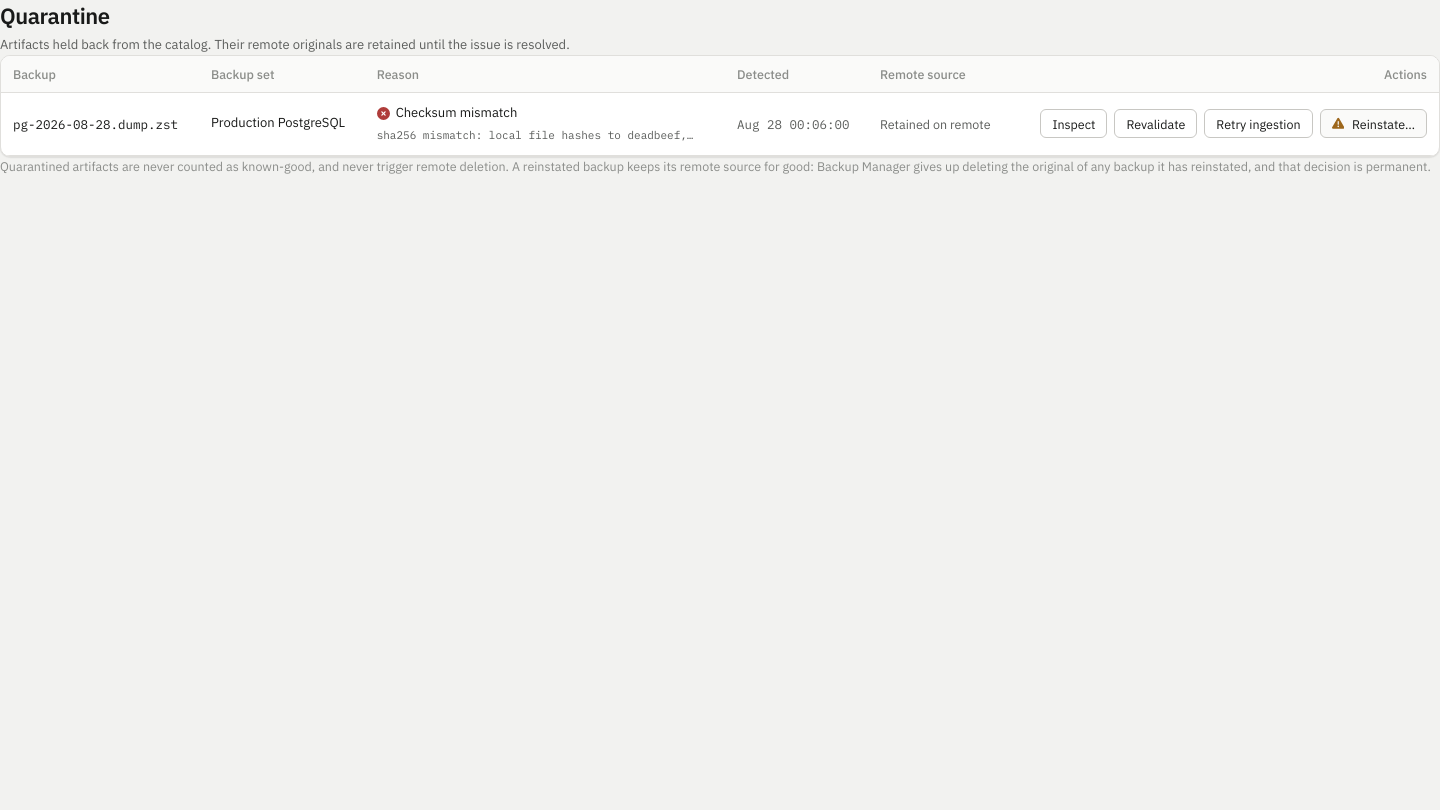
QuarantinePage: the confirmation discloses the permanent forfeiture › cancelling takes no action at all
What coordinates should you click on to do the following:
click the button "Reinstate…"
I would click on:
 (1373, 124)
Its box is [1320,109,1427,138].
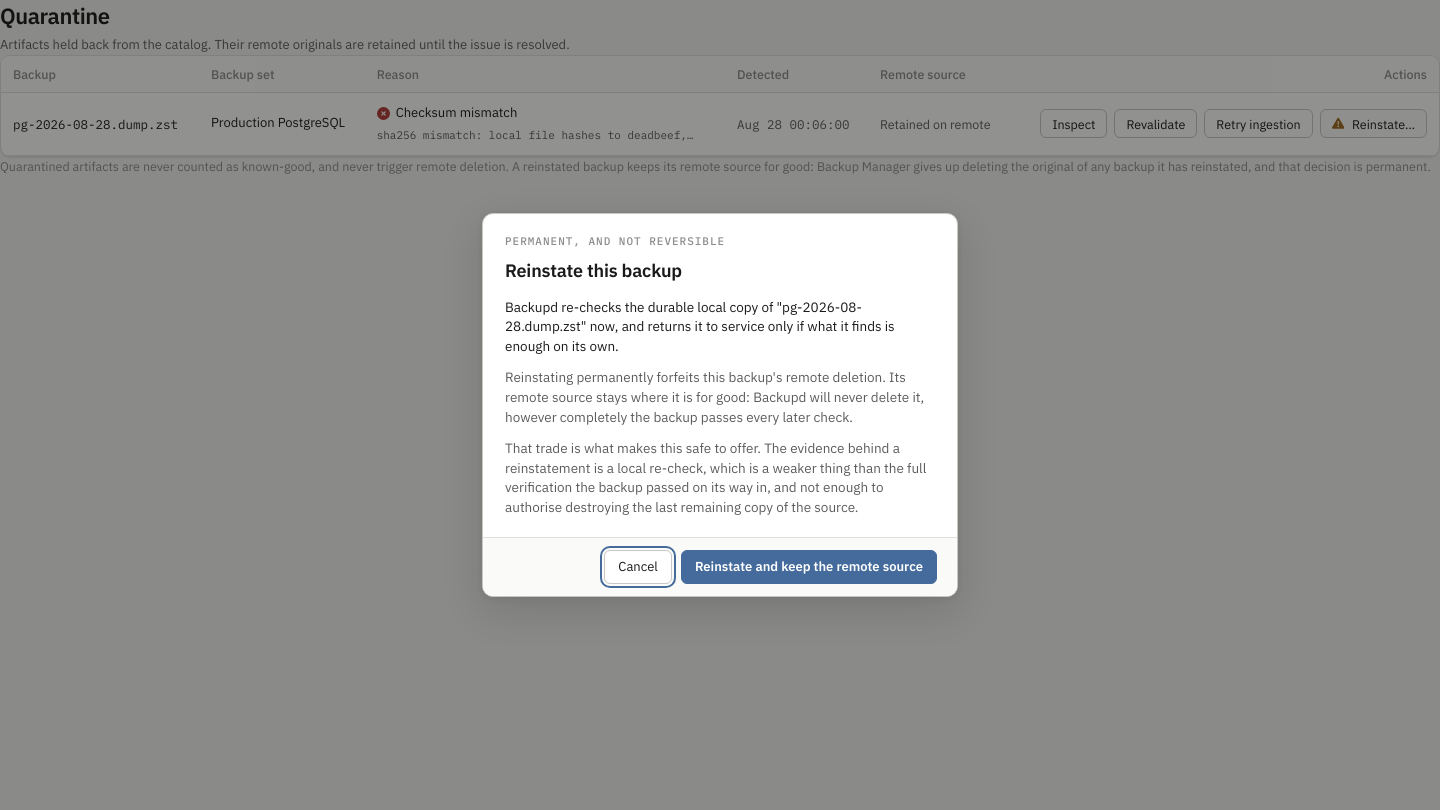
What coordinates should you click on to do the following:
click the button "Cancel"
I would click on:
 (638, 567)
Its box is [604,550,672,584].
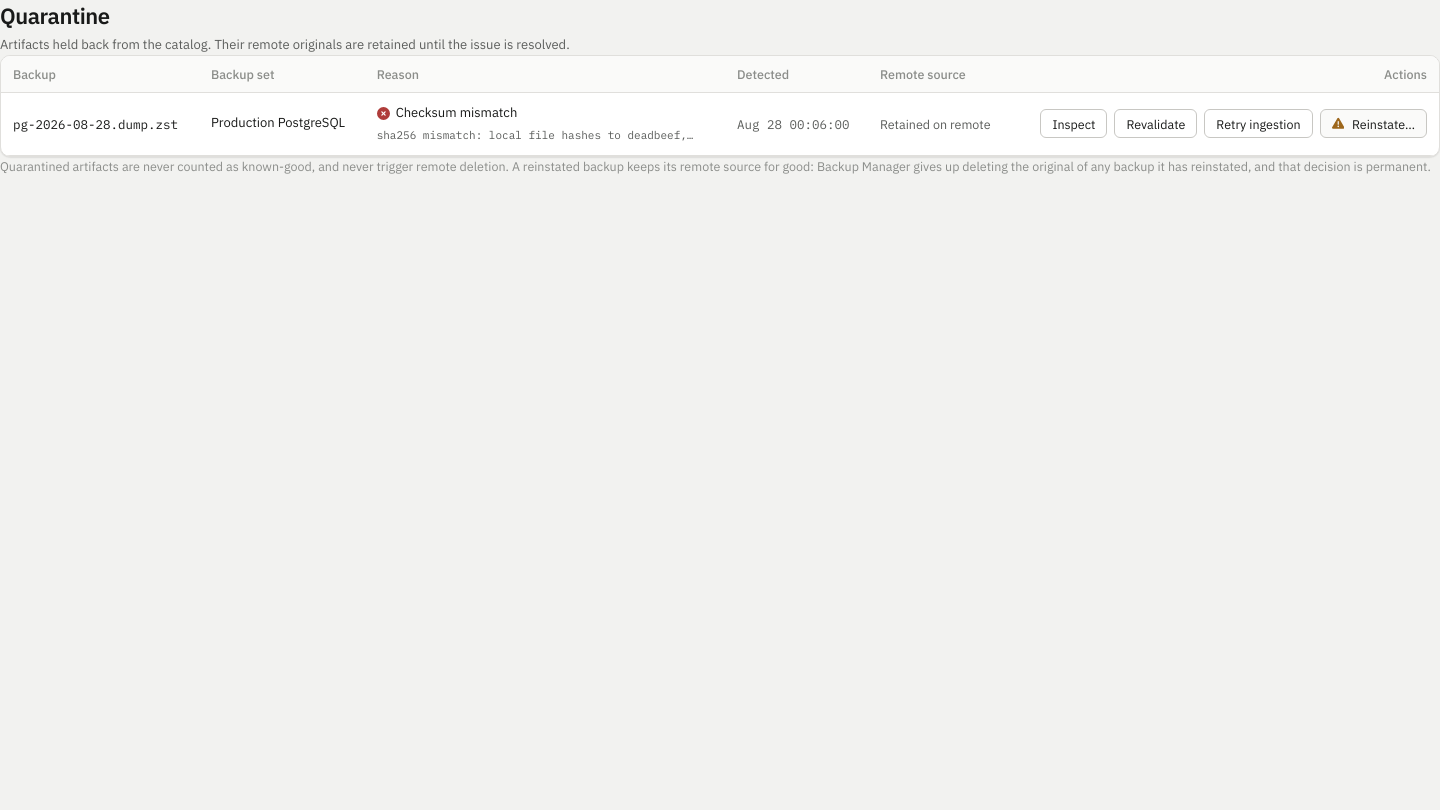
Expected: the dialog is gone
